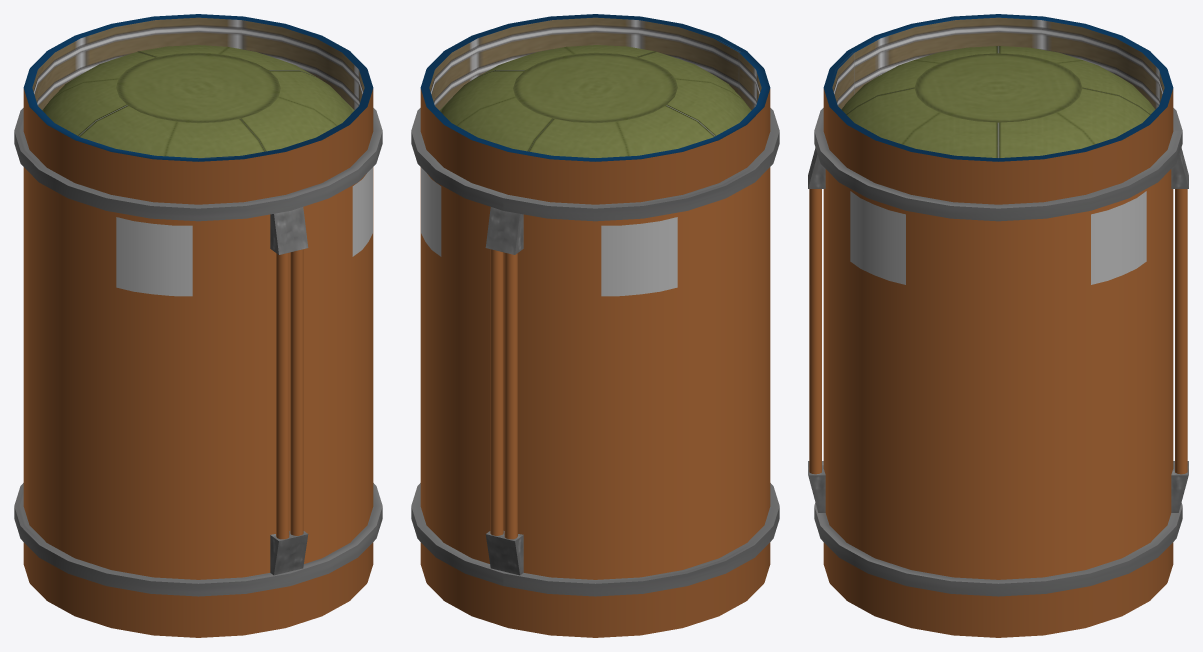
The model's file is FLM-7200M.FBX.
3 views of the same model, side by side, from view 1: azimuth 30°, elevation 25°; view 2: azimuth 150°, elevation 25°; view 3: azimuth 270°, elevation 25° (orthographic).
Visible parts, largest first — view 1: TankBody, TankSleeve001, EndCap001, TankSleeve002, BarrelBand003, BarrelBand002, decalPanel002, FuelPipe001, FuelPipe002, FuelPlug001, decalPanel001, FuelPlug002; view 2: TankBody, TankSleeve001, EndCap001, TankSleeve002, BarrelBand003, BarrelBand002, decalPanel003, FuelPipe003, FuelPipe004, FuelPlug003, decalPanel004, FuelPlug004; view 3: TankBody, TankSleeve001, EndCap001, TankSleeve002, BarrelBand003, BarrelBand002, decalPanel001, decalPanel004, FuelPipe002, FuelPipe004, FuelPlug002, FuelPlug004.
Part boxes in pixels (bbox=[...]): TankBody: bbox=[23, 167, 373, 579]; TankSleeve001: bbox=[23, 14, 373, 204]; EndCap001: bbox=[42, 45, 354, 157]; TankSleeve002: bbox=[23, 542, 373, 637]; BarrelBand003: bbox=[14, 108, 382, 221]; BarrelBand002: bbox=[14, 483, 382, 596]; decalPanel002: bbox=[116, 217, 192, 296]; FuelPipe001: bbox=[276, 253, 289, 539]; FuelPipe002: bbox=[290, 249, 303, 535]; FuelPlug001: bbox=[270, 207, 308, 254]; decalPanel001: bbox=[352, 167, 372, 256]; FuelPlug002: bbox=[270, 531, 308, 575]; TankBody: bbox=[420, 167, 770, 579]; TankSleeve001: bbox=[420, 14, 770, 204]; EndCap001: bbox=[439, 45, 751, 157]; TankSleeve002: bbox=[420, 542, 770, 637]; BarrelBand003: bbox=[411, 108, 779, 221]; BarrelBand002: bbox=[411, 483, 779, 596]; decalPanel003: bbox=[601, 217, 677, 296]; FuelPipe003: bbox=[504, 253, 517, 539]; FuelPipe004: bbox=[490, 249, 503, 535]; FuelPlug003: bbox=[485, 207, 523, 254]; decalPanel004: bbox=[421, 167, 441, 256]; FuelPlug004: bbox=[485, 531, 523, 575]; TankBody: bbox=[823, 169, 1173, 579]; TankSleeve001: bbox=[823, 14, 1173, 204]; EndCap001: bbox=[841, 46, 1155, 157]; TankSleeve002: bbox=[823, 542, 1173, 637]; BarrelBand003: bbox=[814, 108, 1182, 221]; BarrelBand002: bbox=[814, 503, 1182, 596]; decalPanel001: bbox=[850, 191, 905, 284]; decalPanel004: bbox=[1091, 191, 1146, 284]; FuelPipe002: bbox=[809, 189, 821, 474]; FuelPipe004: bbox=[1175, 189, 1187, 474]; FuelPlug002: bbox=[808, 461, 825, 512]; FuelPlug004: bbox=[1171, 461, 1188, 512].
Size of what is drawn, in the model's own units: 2.63 by 2.72 by 3.75.
